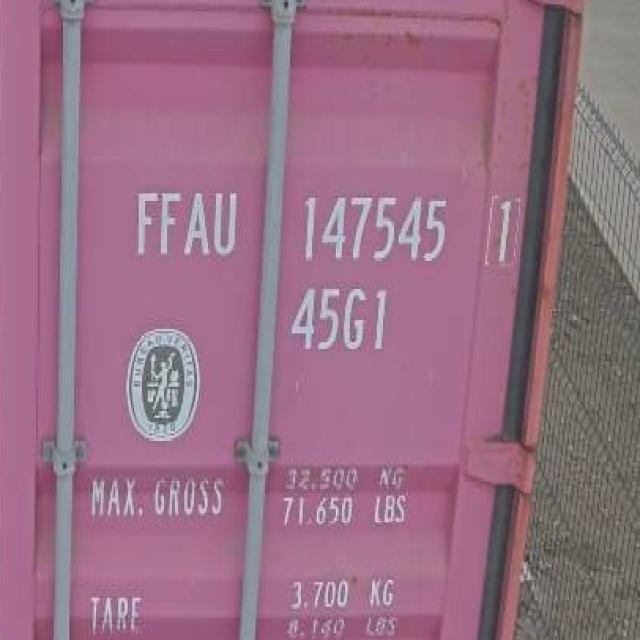dv: (482, 187, 522, 271)
owner: (126, 179, 242, 266)
serial: (290, 184, 450, 274)
size: (284, 277, 395, 361)
